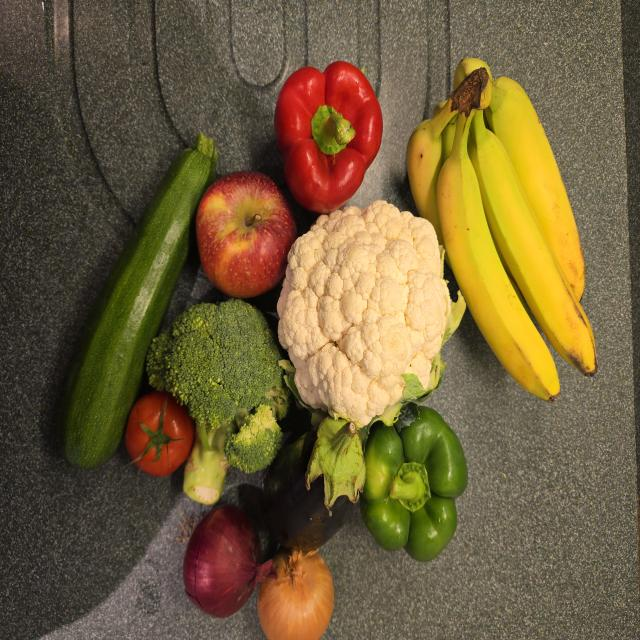Apple: (196, 172, 297, 298)
Banana: (407, 58, 597, 400)
Bell Pepper: (361, 403, 467, 561), (274, 61, 383, 213)
Broccoli: (147, 298, 289, 507)
Cauliflower: (277, 201, 465, 427)
Courgette: (63, 133, 217, 467)
Eggplant: (263, 418, 366, 553)
Onion: (184, 505, 276, 617), (257, 550, 334, 640)
Tomato: (126, 391, 195, 476)
